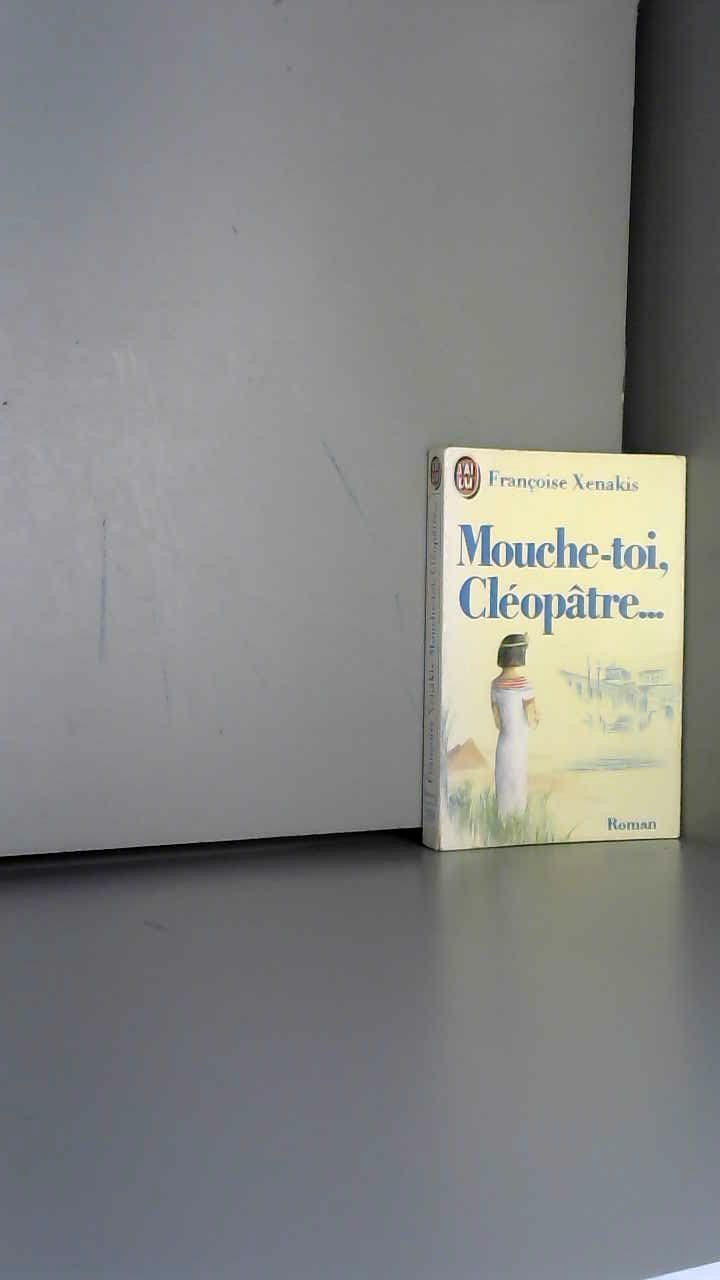book: (410, 420, 715, 907)
